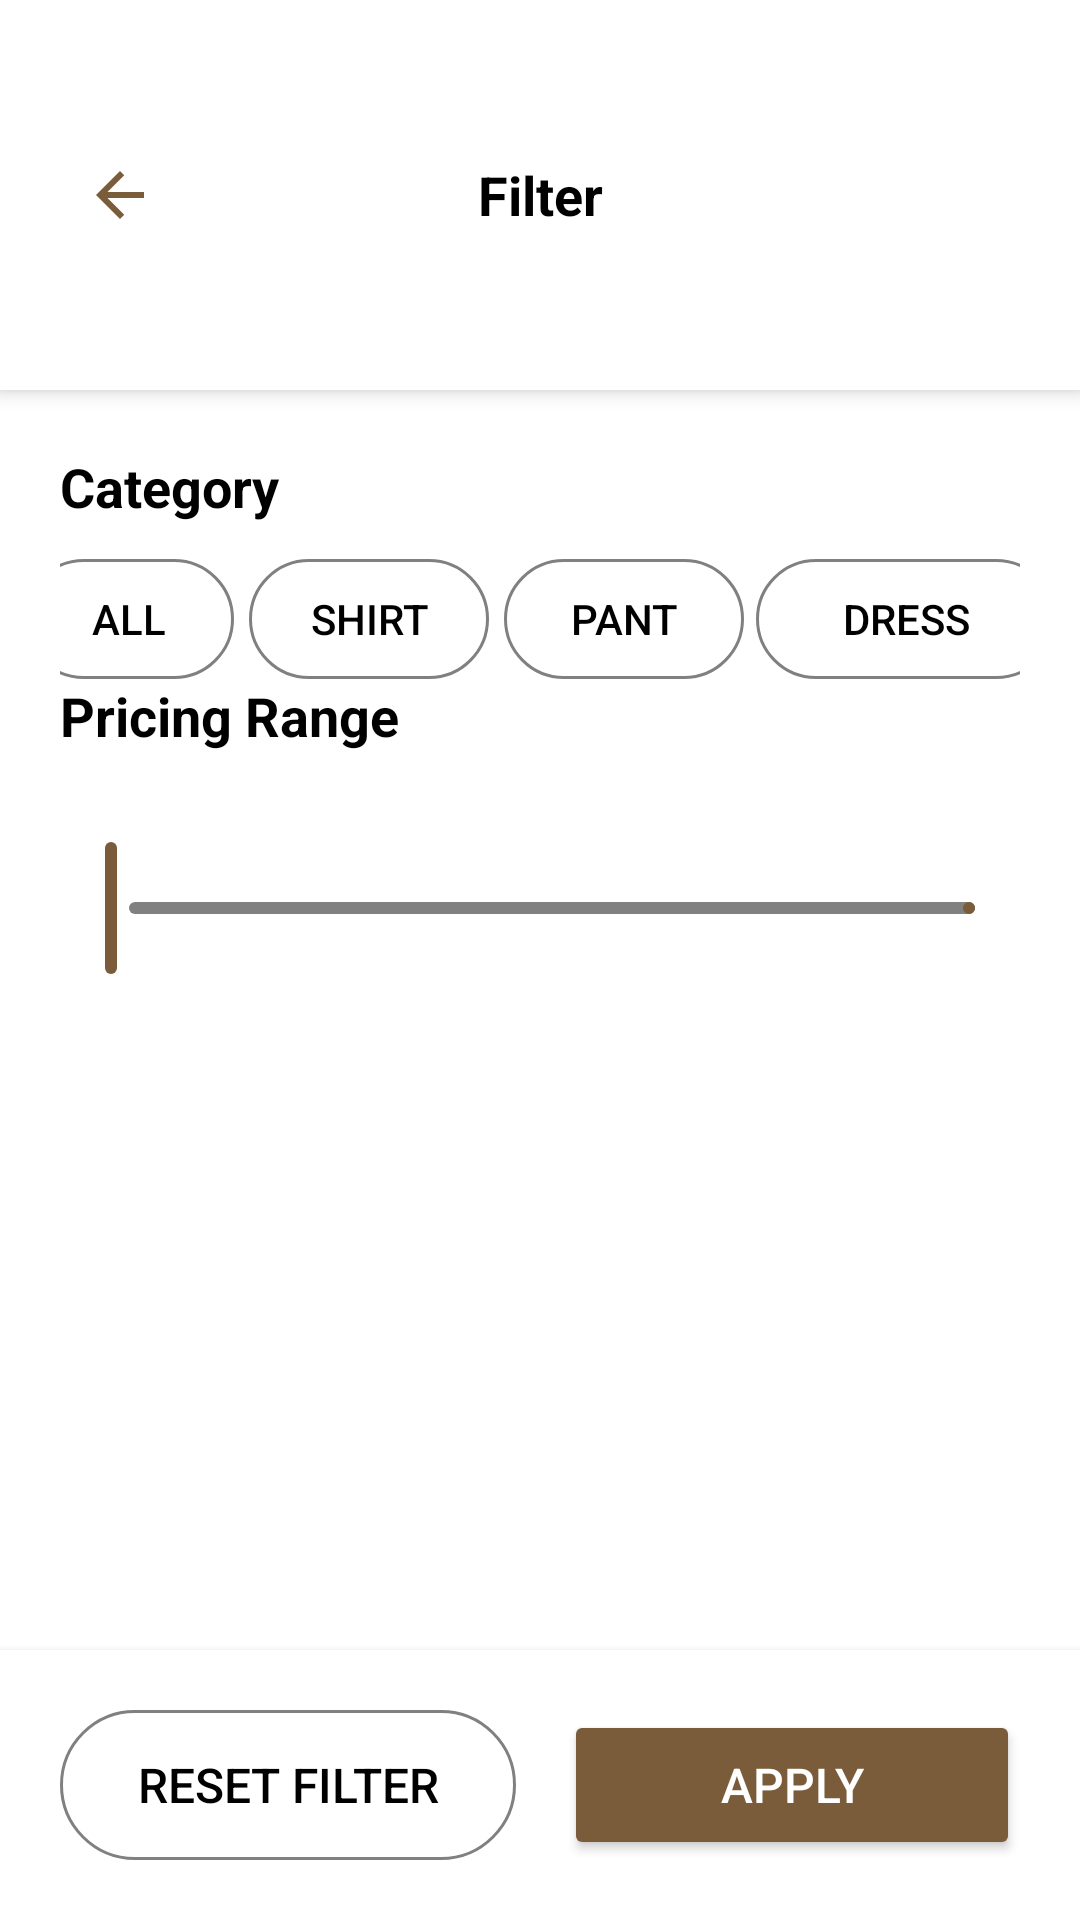

Locate icon controls on the screen. Image size 1080 × 1920, boxes as (x1, y1, x2, y2).
arrow back: (96, 171, 144, 219)
